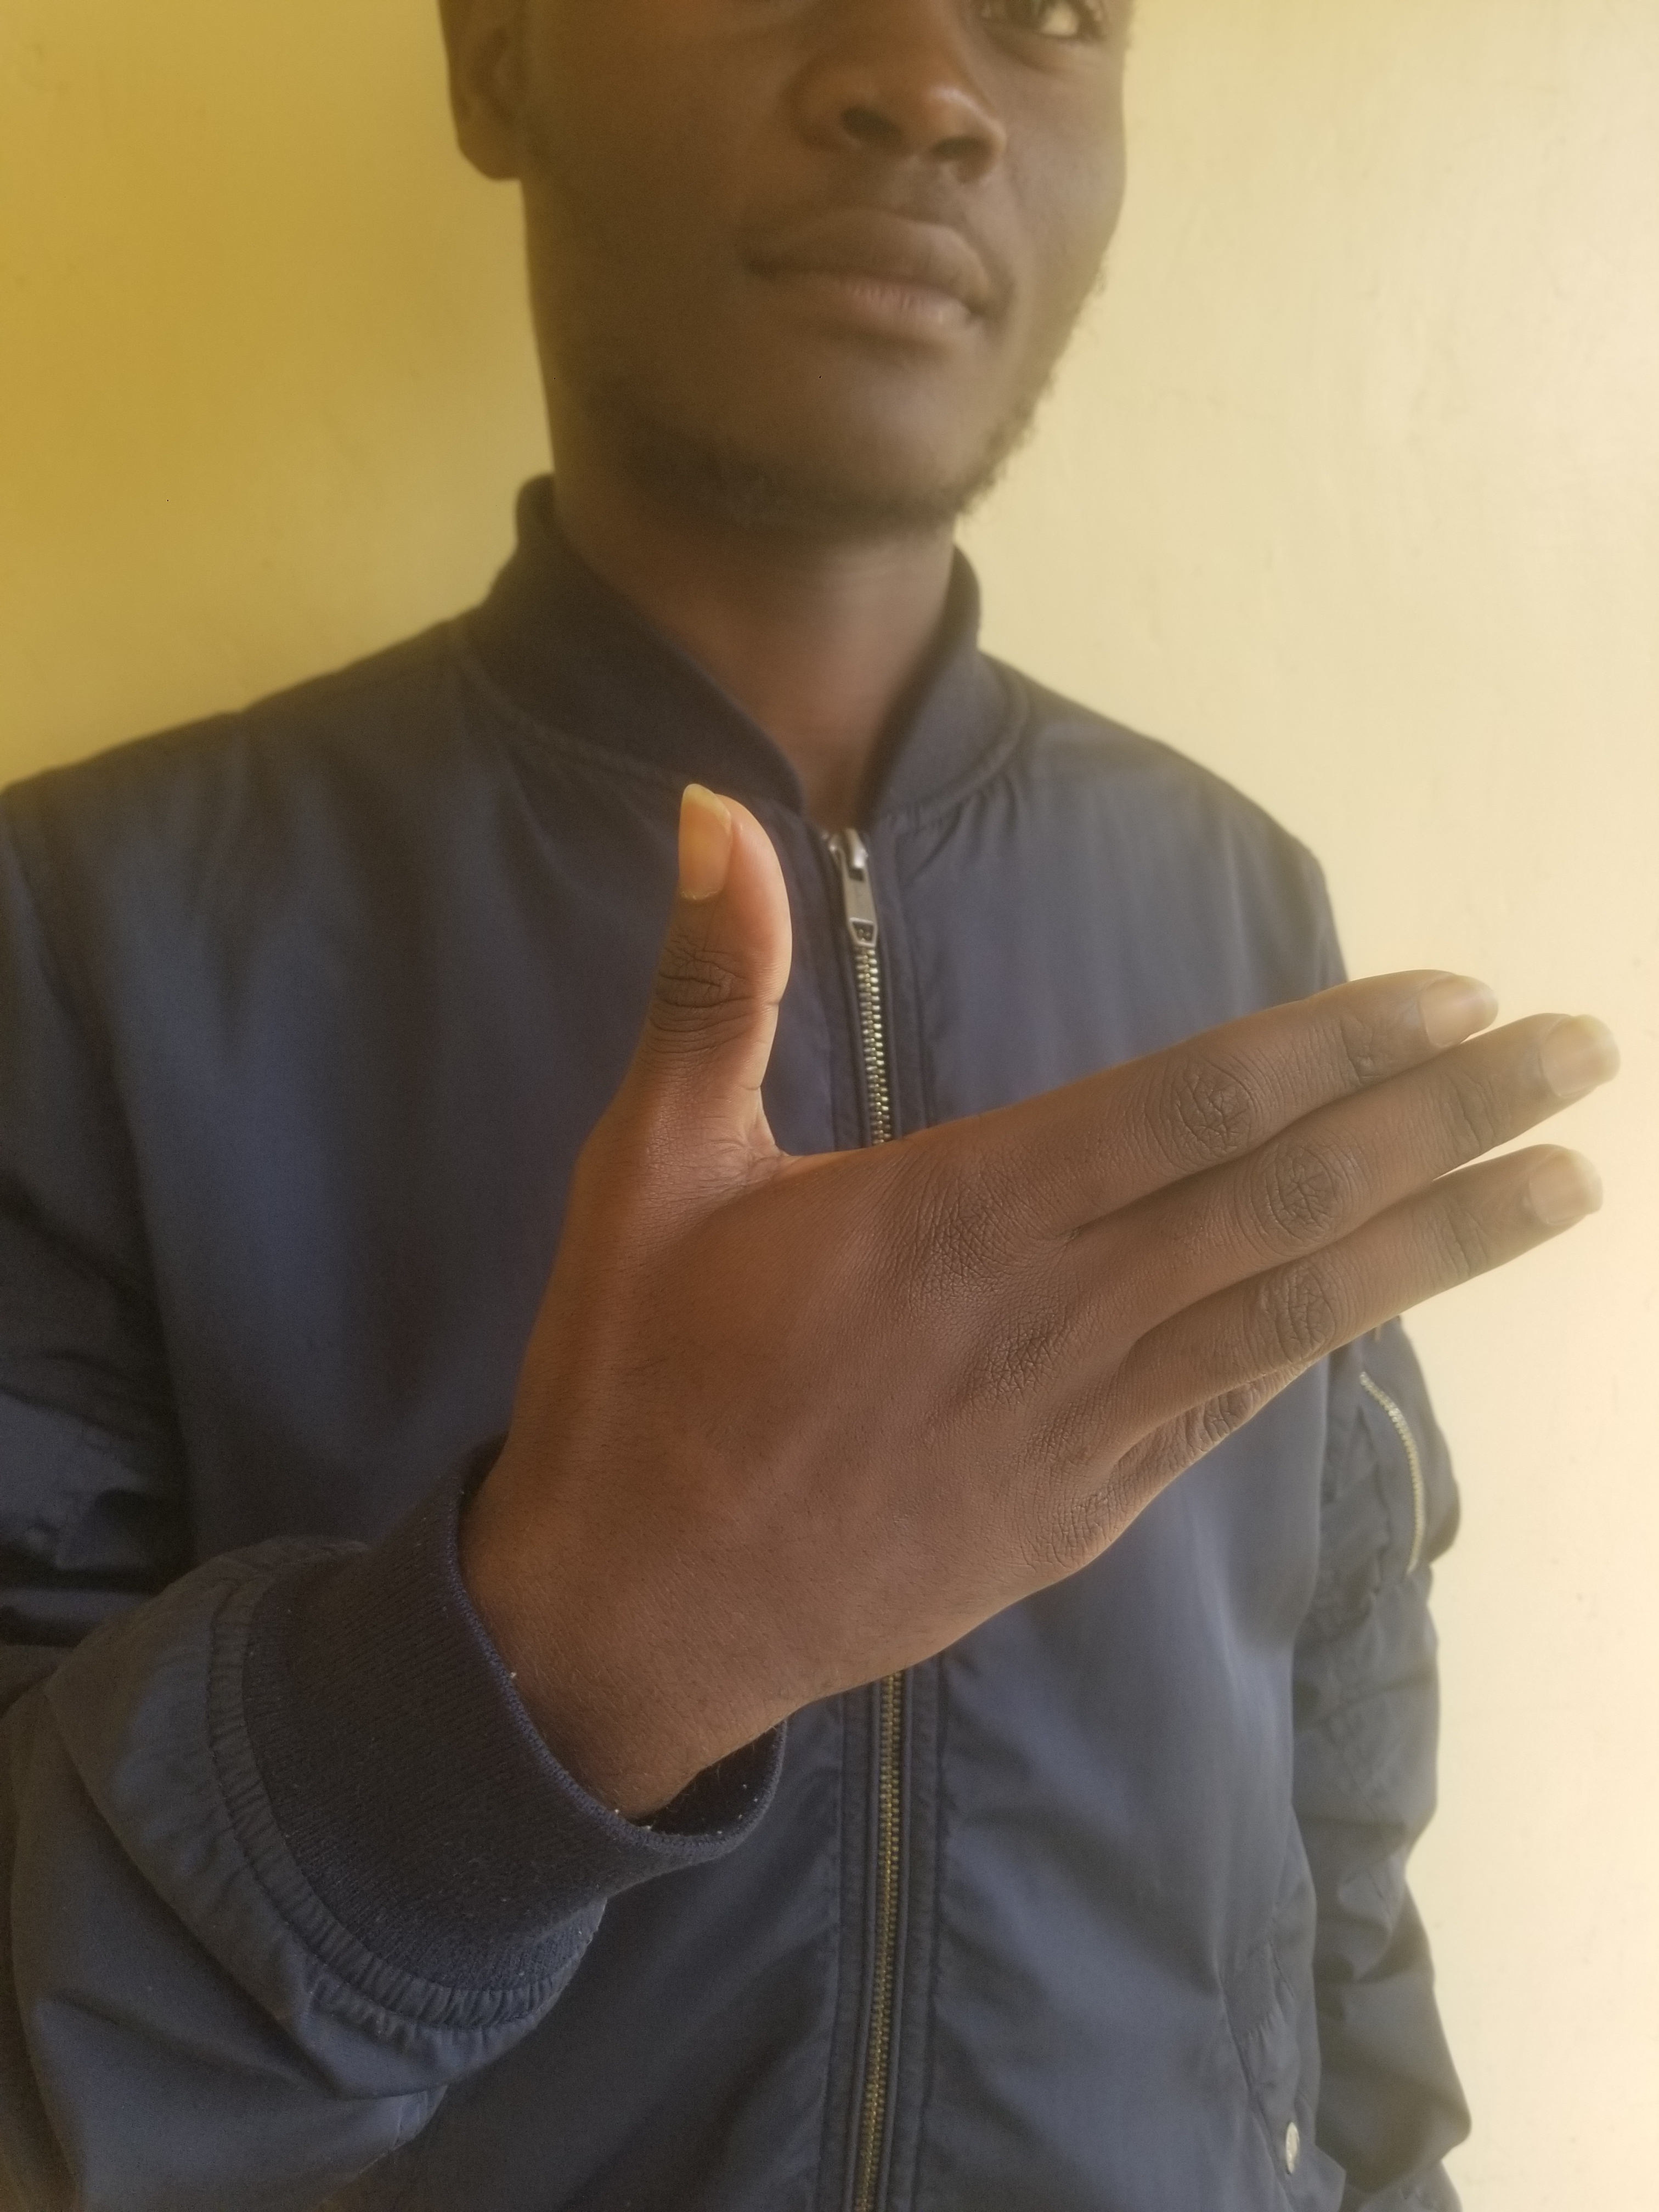open palm: (444, 740, 1629, 1895)
